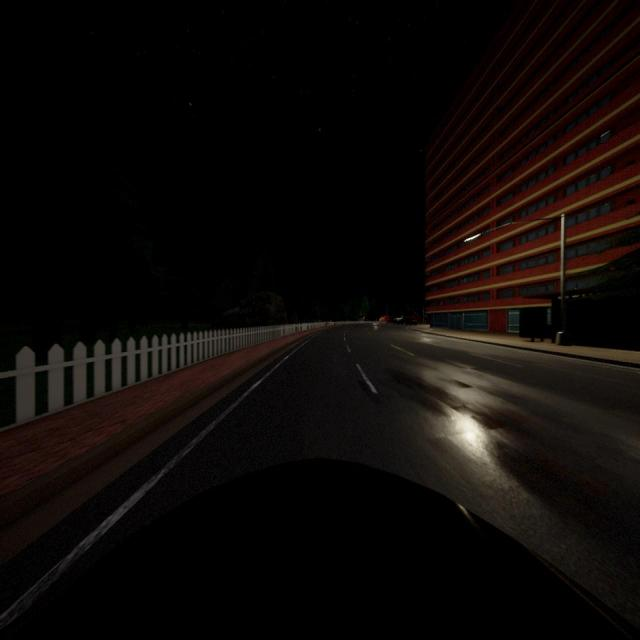Vehicle: (0, 461, 640, 640), (404, 318, 418, 326), (394, 315, 404, 325), (380, 316, 390, 323)
